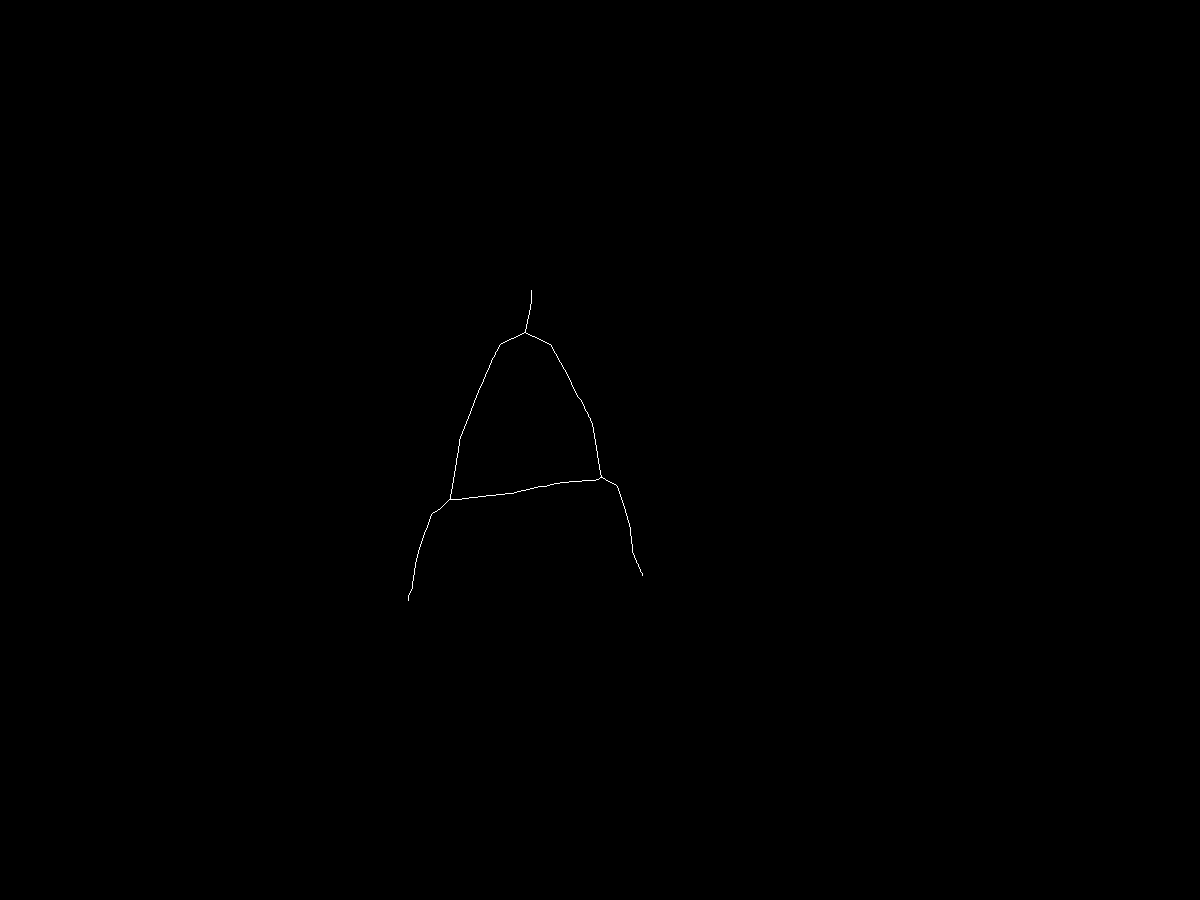dian1: (519, 328, 531, 340)
dian2: (442, 493, 458, 509)
dian3: (399, 591, 421, 613)
dian4: (594, 473, 611, 490)
dian5: (632, 567, 651, 586)
